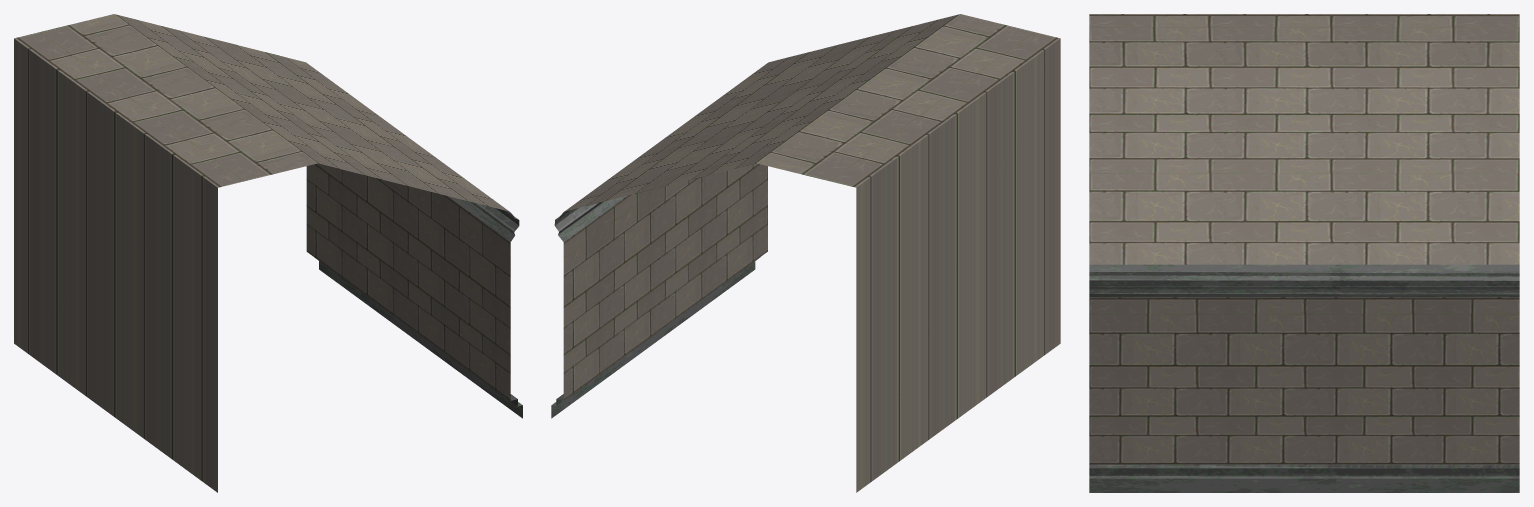
File: h5_qiang.FBX
3 renders of one model, left to right at view 1: azimuth 30°, elevation 25°; view 2: azimuth 150°, elevation 25°; view 3: azimuth 270°, elevation 25°, orthographic. The views are drawn at different scales.
Visible parts, largest first — view 1: h5_qiang; view 2: h5_qiang; view 3: h5_qiang.
Boxes of the visible parts, x1=… form: h5_qiang: x1=14, y1=14, x2=522, y2=492; h5_qiang: x1=551, y1=14, x2=1060, y2=492; h5_qiang: x1=1089, y1=14, x2=1519, y2=492.
Bounding box in the file's own units: 11.73 × 11.22 × 13.58.
